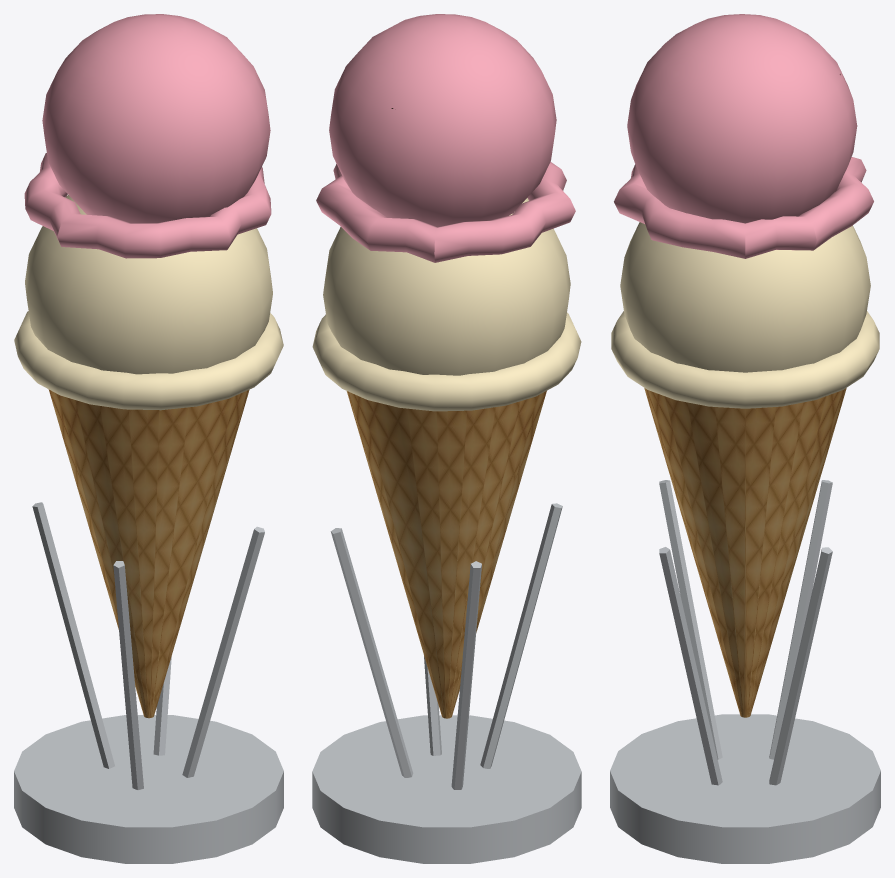
Rendered from dessert_ice_cream_cone_double.glb.
3 renders of one model, left to right at view 1: azimuth 30°, elevation 25°; view 2: azimuth 150°, elevation 25°; view 3: azimuth 270°, elevation 25°, orthographic.
Parts seen in each view (by area): view 1: dessert_ice_cream_cone_double; view 2: dessert_ice_cream_cone_double; view 3: dessert_ice_cream_cone_double.
Boxes of the visible parts, x1=… form: dessert_ice_cream_cone_double: x1=14, y1=14, x2=283, y2=863; dessert_ice_cream_cone_double: x1=312, y1=14, x2=581, y2=863; dessert_ice_cream_cone_double: x1=610, y1=14, x2=880, y2=863.
Size of the model in its own units: 0.08 by 0.256 by 0.08.
5 materials, 1 textured.
